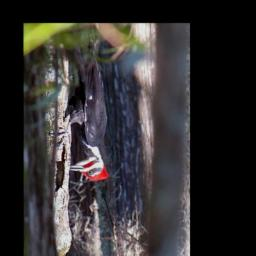Woodpecker: (48, 31, 111, 181)
